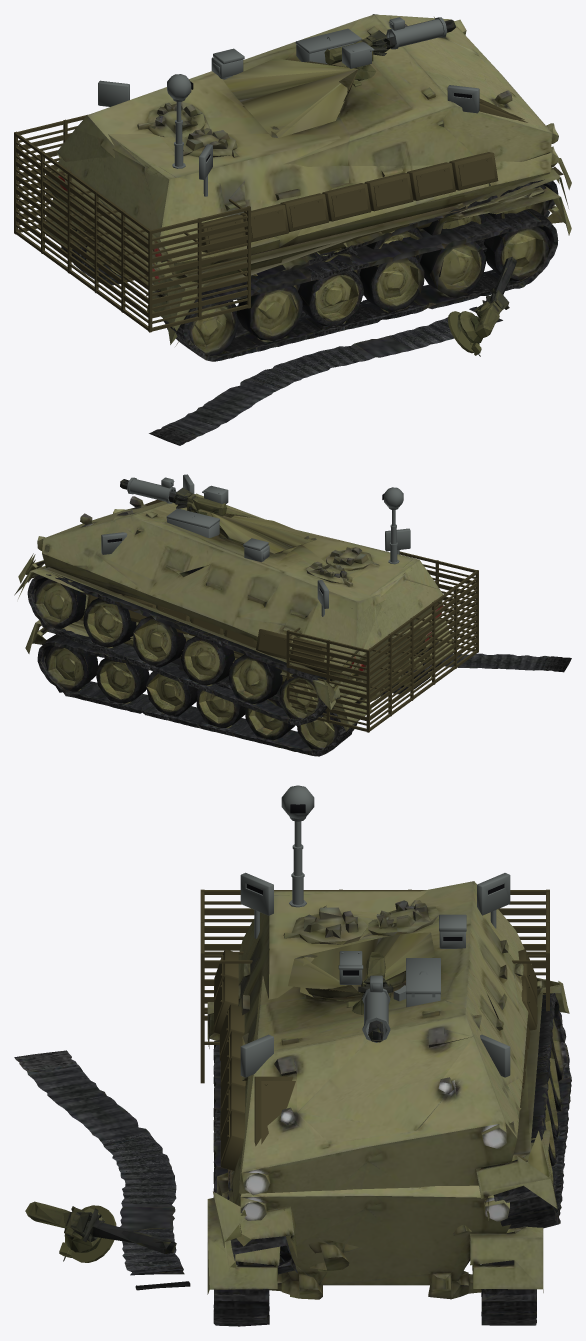
Rendered from ifv_namer.glb.
3 renders of one model, top to bottom at view 1: azimuth 30°, elevation 25°; view 2: azimuth 150°, elevation 25°; view 3: azimuth 270°, elevation 25°, orthographic. The views are drawn at different scales.
Visible parts, largest first — view 1: WRECK_hull_hull, hull_hull, hull_rubber, WRECK_hull_rubber, kit_armour_3_hull_hull_far, kit_armour_2_hull_hull, kit_armour_3_hull_hull_near, kit_armour_3_hull_hull, kit_sensors_2_hull_hull, WRECK_turret_metal, kit_firepower_2_turret_metal, kit_firepower_3_turret_metal (+5 smaller); view 2: WRECK_hull_hull, WRECK_hull_rubber, hull_rubber, hull_hull, kit_armour_3_hull_hull_far, kit_armour_3_hull_hull_near, kit_armour_3_hull_hull, kit_armour_2_hull_hull, kit_sensors_2_hull_hull, kit_firepower_3_turret_metal, kit_firepower_2_turret_metal, kit_sensors_3_hull_hull (+3 smaller); view 3: WRECK_hull_hull, hull_hull, WRECK_hull_rubber, hull_rubber, kit_armour_2_hull_hull, kit_sensors_2_hull_hull, WRECK_turret_metal, kit_armour_3_hull_hull, kit_armour_3_hull_hull_far, kit_armour_1_hull_hull, kit_sensors_3_hull_hull, kit_firepower_3_turret_metal (+6 smaller).
Part boxes in pixels (<box>): WRECK_hull_hull: <box>46,14,568,346</box>; hull_hull: <box>46,106,568,322</box>; hull_rubber: <box>45,198,571,361</box>; WRECK_hull_rubber: <box>45,17,571,445</box>; kit_armour_3_hull_hull_far: <box>16,133,247,318</box>; kit_armour_2_hull_hull: <box>201,152,498,252</box>; kit_armour_3_hull_hull_near: <box>16,126,247,323</box>; kit_armour_3_hull_hull: <box>14,114,250,332</box>; kit_sensors_2_hull_hull: <box>98,14,479,196</box>; WRECK_turret_metal: <box>448,256,516,355</box>; kit_firepower_2_turret_metal: <box>386,17,447,49</box>; kit_firepower_3_turret_metal: <box>295,28,361,63</box>; WRECK_hull_hull: <box>14,493,437,709</box>; WRECK_hull_rubber: <box>18,553,571,725</box>; hull_rubber: <box>25,624,453,756</box>; hull_hull: <box>29,530,452,718</box>; kit_armour_3_hull_hull_far: <box>289,569,477,720</box>; kit_armour_3_hull_hull_near: <box>289,564,477,725</box>; kit_armour_3_hull_hull: <box>286,551,478,732</box>; kit_armour_2_hull_hull: <box>86,593,326,667</box>; kit_sensors_2_hull_hull: <box>101,474,410,616</box>; kit_firepower_3_turret_metal: <box>166,508,219,537</box>; kit_firepower_2_turret_metal: <box>127,477,176,503</box>; kit_sensors_3_hull_hull: <box>382,487,403,564</box>; WRECK_hull_hull: <box>222,881,569,1277</box>; hull_hull: <box>207,891,543,1299</box>; WRECK_hull_rubber: <box>14,978,571,1290</box>; hull_rubber: <box>207,1019,543,1326</box>; kit_armour_2_hull_hull: <box>214,949,537,1170</box>; kit_sensors_2_hull_hull: <box>240,872,510,1077</box>; WRECK_turret_metal: <box>59,1205,176,1262</box>; kit_armour_3_hull_hull: <box>200,889,549,1083</box>; kit_armour_3_hull_hull_far: <box>204,908,545,1003</box>; kit_armour_1_hull_hull: <box>254,1076,295,1146</box>; kit_sensors_3_hull_hull: <box>281,785,314,907</box>; kit_firepower_3_turret_metal: <box>393,958,440,1007</box>.
Size of the model in its own units: 8.9 by 4.64 by 6.85.
1 material, 1 textured.
